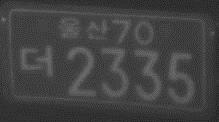0: (134, 20, 154, 45)
2: (66, 46, 97, 96)
3: (133, 49, 162, 101), (100, 47, 129, 98)
5: (166, 52, 195, 104)
7: (112, 19, 132, 43)
더: (20, 45, 53, 75)
울산_O: (58, 16, 110, 41)
